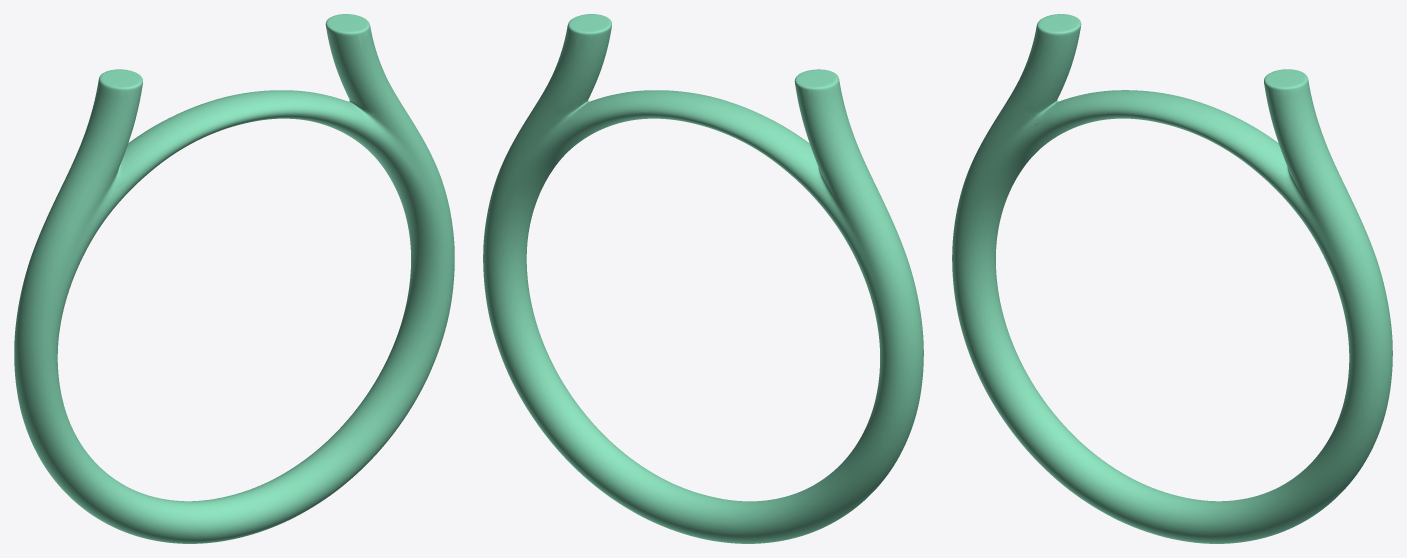
3 views of the same model, side by side, from view 1: azimuth 30°, elevation 25°; view 2: azimuth 150°, elevation 25°; view 3: azimuth 330°, elevation 25° (orthographic).
Parts seen in each view (by area): view 1: Metal02; view 2: Metal02; view 3: Metal02.
Boxes of the visible parts, bbox=[...] form: Metal02: bbox=[14, 14, 454, 543]; Metal02: bbox=[483, 14, 923, 543]; Metal02: bbox=[952, 14, 1392, 543].
Bounding box in the file's own units: 20.87 × 22.32 × 1.99.
